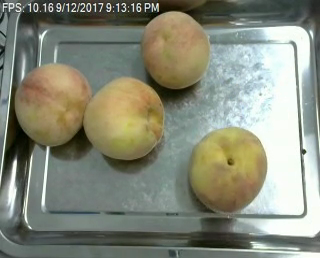Peach: (188, 126, 268, 213), (13, 62, 91, 146), (83, 76, 161, 159), (140, 10, 211, 89)
